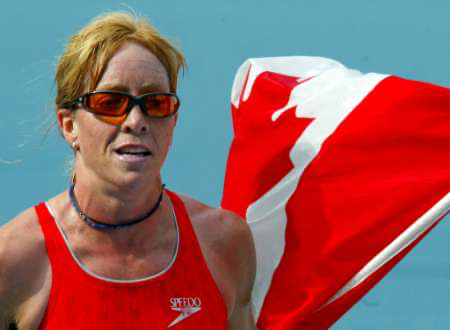Face: (71, 57, 180, 190)
